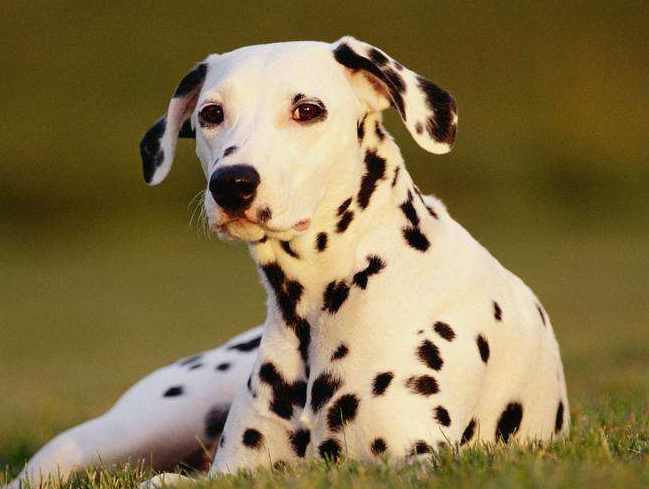nose: (204, 159, 271, 214)
